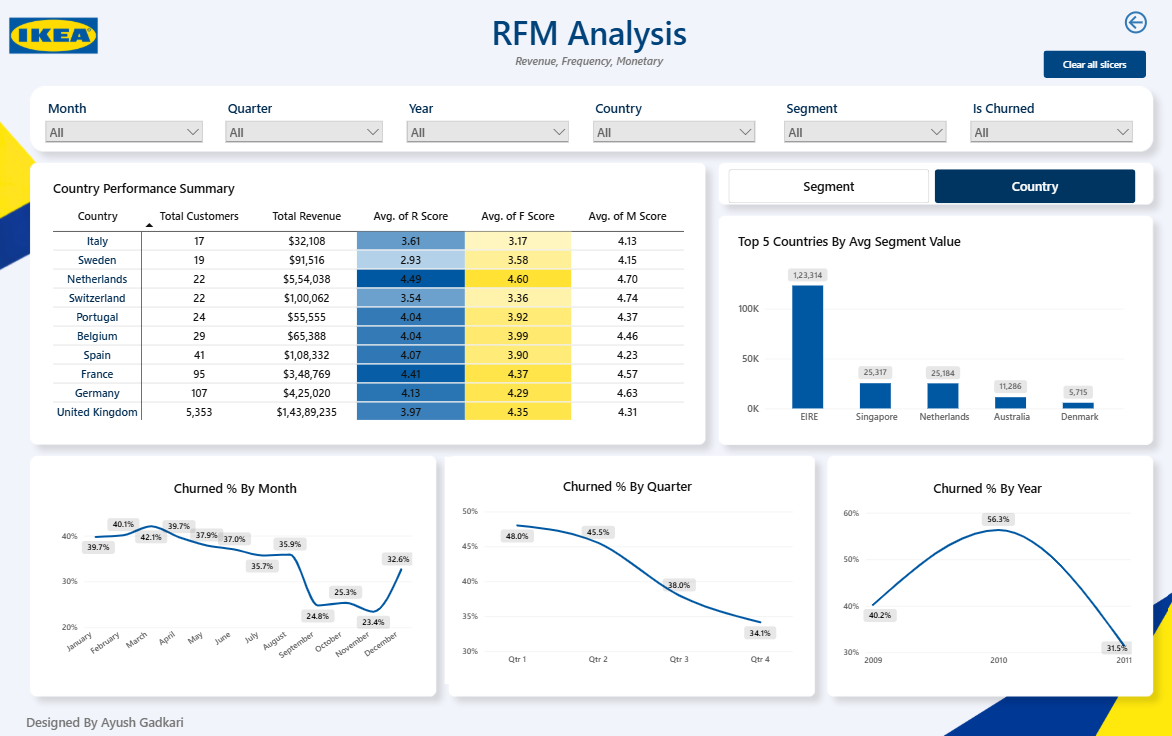

What the dashboard file says about the page in this screenshot:
{"tool":"powerbi","page":{"name":"RFM Analysis","canvas":[1750,1100],"ordinal":2},"visuals":[{"type":"slicer","fields":{"Values":["Sheet1.InvoiceDate.Variation.Date Hierarchy.Month"]},"box":[68.2,156.7,241.5,92.2],"z":0},{"type":"columnChart","title":"Total Customer By Segment","fields":{"Category":["Sheet1.Segment"],"Y":["Sheet1.Total Customers"]},"box":[70.3,386.8,969.5,274.6],"z":0,"group":"g1"},{"type":"lineChart","title":"Churned % By Month","fields":{"Y":["Sheet1.Churn %"],"Category":["Sheet1.InvoiceMonth.Variation.Date Hierarchy.Month"]},"box":[75.8,701.6,554.3,310.7],"z":0,"group":"g2"},{"type":"columnChart","title":"Customer Retention By Segment","fields":{"Category":["Sheet1.Segment"],"Series":["Sheet1.IsChurned"],"Y":["Sheet1.Total Customers"]},"box":[1068.5,334.4,619.3,317],"z":1000,"group":"g1"},{"type":"lineChart","title":"Churned % By Month","fields":{"Y":["Sheet1.Churn %"],"Category":["Sheet1.InvoiceMonth.Variation.Date Hierarchy.Month"]},"box":[69.4,688.2,562.2,335.5],"z":1000},{"type":"lineChart","title":"Churned % By Quarter","fields":{"Category":["Sheet1.InvoiceMonth.Variation.Date Hierarchy.Quarter"],"Y":["Sheet1.Churn %"]},"box":[670.8,699.7,519.8,310.7],"z":1000,"group":"g2"},{"type":"slicer","fields":{"Values":["Sheet1.InvoiceDate.Variation.Date Hierarchy.Quarter"]},"box":[333.6,156.7,241.5,92.2],"z":2000},{"type":"lineChart","title":"Total Customer By Month","fields":{"Category":["Sheet1.InvoiceMonth.Variation.Date Hierarchy.Month"],"Y":["Sheet1.Total Customers"]},"box":[70.3,698.3,562.2,335.5],"z":2000,"group":"g1"},{"type":"lineChart","title":"Churned % By Year","fields":{"Category":["Sheet1.InvoiceMonth.Variation.Date Hierarchy.Year"],"Y":["Sheet1.Churn %"]},"box":[1232.7,701.6,458,310.7],"z":2000,"group":"g2"},{"type":"lineChart","title":"Total CustomerBy Quarter","fields":{"Category":["Sheet1.InvoiceMonth.Variation.Date Hierarchy.Quarter"],"Y":["Sheet1.Total Customers"]},"box":[662.5,683.9,527.1,335.5],"z":3000,"group":"g1"},{"type":"lineChart","title":"Churned % By Quarter","fields":{"Category":["Sheet1.InvoiceMonth.Variation.Date Hierarchy.Quarter"],"Y":["Sheet1.Churn %"]},"box":[670.9,688.2,527.1,335.5],"z":3000},{"type":"slicer","fields":{"Values":["Sheet1.InvoiceDate.Variation.Date Hierarchy.Year"]},"box":[600.9,156.7,248.8,92.2],"z":4000},{"type":"lineChart","title":"Total Customer By Year","fields":{"Category":["Sheet1.InvoiceMonth.Variation.Date Hierarchy.Year"],"Y":["Sheet1.Total Customers"]},"box":[1233.3,698.3,464.5,335.5],"z":4000,"group":"g1"},{"type":"lineChart","title":"Churned % By Year","fields":{"Category":["Sheet1.InvoiceMonth.Variation.Date Hierarchy.Year"],"Y":["Sheet1.Churn %"]},"box":[1229,691.1,464.5,335.5],"z":5000},{"type":"slicer","fields":{"Values":["Sheet1.Country"]},"box":[875.5,156.7,248.8,92.2],"z":6000},{"type":"slicer","fields":{"Values":["Sheet1.Segment"]},"box":[1157.5,156.7,248.8,92.2],"z":7000},{"type":"slicer","fields":{"Values":["Sheet1.IsChurned"]},"box":[1432.1,156.7,248.8,92.2],"z":8000},{"type":"group","id":"g1","title":"Customer","box":[70.3,334.4,1628.1,699.1],"z":9000},{"type":"group","id":"g2","title":"Revenue","box":[75.8,699.7,1614.9,312.6],"z":10000},{"type":"bookmarkNavigator","box":[1080.1,259.9,600,50],"z":11000},{"type":"textbox","box":[44.2,1061.7,248.8,38.7],"z":12000},{"type":"image","box":[0,0,169.6,125.3],"z":13000},{"type":"actionButton","box":[1625.7,1.8,110.6,82.9],"z":14000},{"type":"actionButton","box":[1544.5,85.5,151.1,40.5],"z":15000},{"type":"textbox","box":[593.9,24,562.2,101.4],"z":16000},{"type":"columnChart","title":"Top 5 Countries By Avg Segment Value","fields":{"Y":["Sheet1.Avg Customer Value"],"Category":["Sheet1.Country"]},"box":[1079.1,338.6,600.5,316.1],"z":19000},{"type":"pivotTable","title":"Country Performance Summary","fields":{"Rows":["Sheet1.Country"],"Values":["Sheet1.Total Customers","Sheet1.Total Revenue","Avg(Sheet1.R_Score)","Avg(Sheet1.F_Score)","Avg(Sheet1.M_Score)"]},"box":[67.7,259.6,964,394.4],"z":20000}]}

Visuals, with their boxes in screenshot pixels (x1, y1, x2, y2), scaled from the page's 1750x1100 canvas onto the 1172x736 screenshot:
slicer - Sheet1.InvoiceDate.Variation.Date Hierarchy.Month: detection(46, 105, 207, 167)
"Total Customer By Segment" columnChart: detection(47, 259, 696, 443)
"Churned % By Month" lineChart: detection(51, 469, 422, 677)
"Customer Retention By Segment" columnChart: detection(716, 224, 1130, 436)
"Churned % By Month" lineChart: detection(46, 460, 423, 685)
"Churned % By Quarter" lineChart: detection(449, 468, 797, 676)
slicer - Sheet1.InvoiceDate.Variation.Date Hierarchy.Quarter: detection(223, 105, 385, 167)
"Total Customer By Month" lineChart: detection(47, 467, 424, 692)
"Churned % By Year" lineChart: detection(826, 469, 1132, 677)
"Total CustomerBy Quarter" lineChart: detection(444, 458, 797, 682)
"Churned % By Quarter" lineChart: detection(449, 460, 802, 685)
slicer - Sheet1.InvoiceDate.Variation.Date Hierarchy.Year: detection(402, 105, 569, 167)
"Total Customer By Year" lineChart: detection(826, 467, 1137, 692)
"Churned % By Year" lineChart: detection(823, 462, 1134, 687)
slicer - Sheet1.Country: detection(586, 105, 753, 167)
slicer - Sheet1.Segment: detection(775, 105, 942, 167)
slicer - Sheet1.IsChurned: detection(959, 105, 1126, 167)
"Customer" group: detection(47, 224, 1137, 692)
"Revenue" group: detection(51, 468, 1132, 677)
bookmarkNavigator: detection(723, 174, 1125, 207)
textbox: detection(30, 710, 196, 735)
image: detection(0, 0, 114, 84)
actionButton: detection(1089, 1, 1163, 57)
actionButton: detection(1034, 57, 1136, 84)
textbox: detection(398, 16, 774, 84)
"Top 5 Countries By Avg Segment Value" columnChart: detection(723, 227, 1125, 438)
"Country Performance Summary" pivotTable: detection(45, 174, 691, 438)
